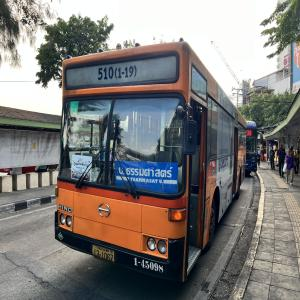BMTA-bus: (54, 41, 248, 284)
Bus Line Number: (94, 66, 138, 81)
Bus Side Number: (133, 255, 164, 275)
Destination Sign: (116, 160, 179, 193)
TSB-Bus: (245, 119, 260, 177)
